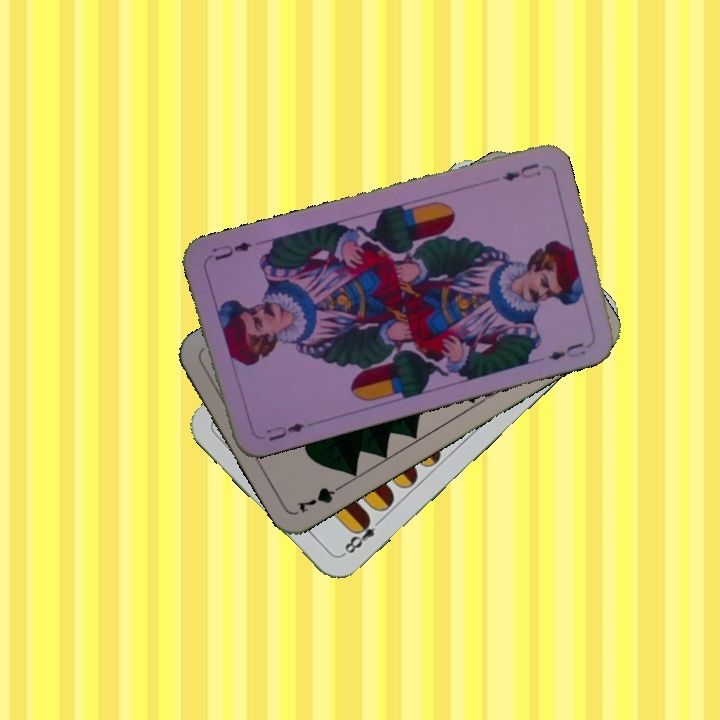E8: (338, 512, 386, 559)
EU: (262, 418, 308, 444), (499, 159, 544, 184)
G7: (293, 478, 349, 516)
